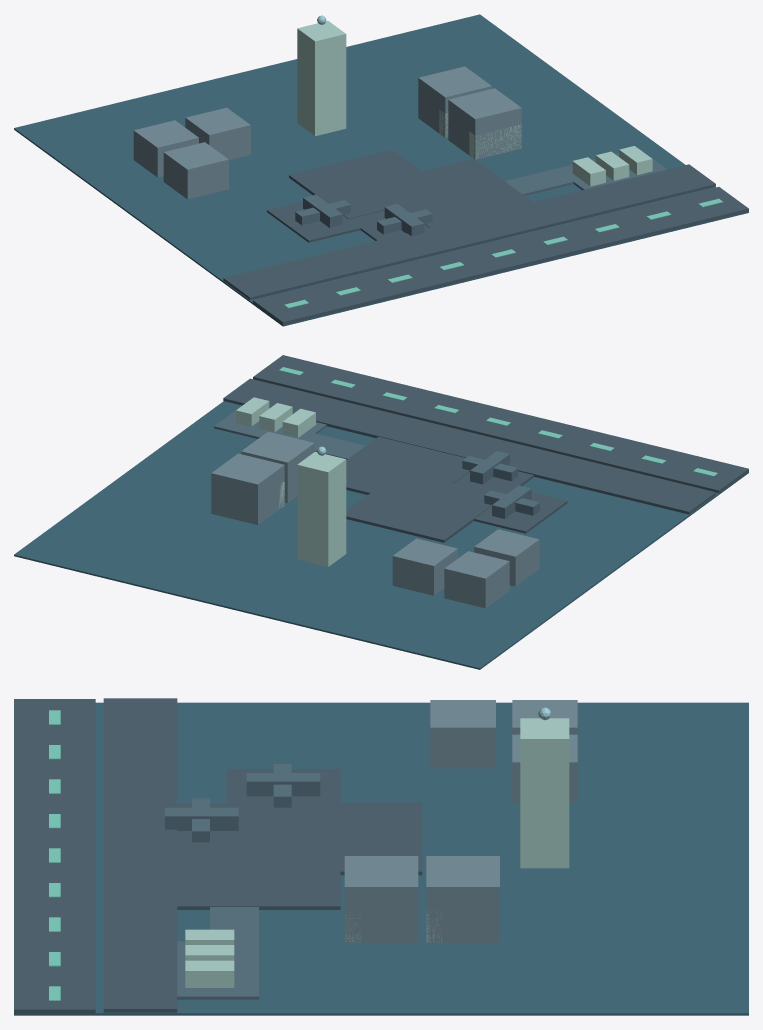
The model's file is stage_13.glb.
3 views of the same model, one above another, from view 1: azimuth 30°, elevation 25°; view 2: azimuth 150°, elevation 25°; view 3: azimuth 270°, elevation 25° (orthographic). The views are drawn at different scales.
Parts seen in each view (by area): view 1: geometry_0; view 2: geometry_0; view 3: geometry_0.
Boxes of the visible parts, x1,y1,x2,y2 form: geometry_0: (14, 14, 748, 326); geometry_0: (14, 355, 748, 669); geometry_0: (14, 698, 748, 1015).
Bounding box in the file's own units: 9 × 2.06 × 9.
